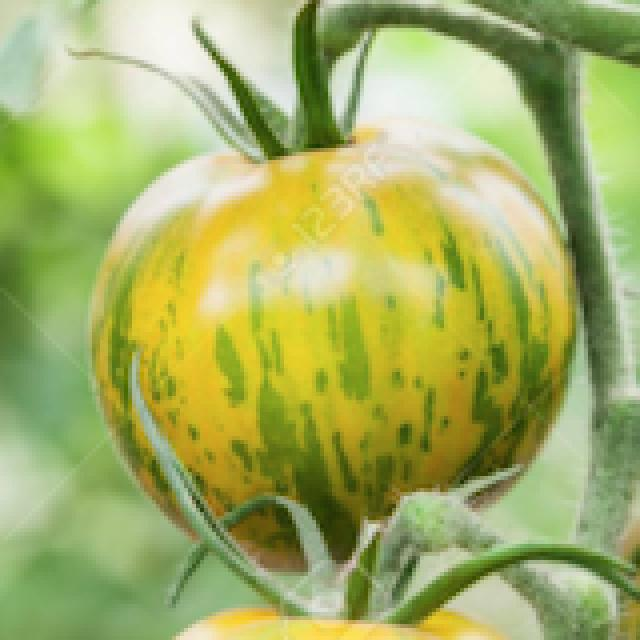unripe tomato: (55, 64, 569, 552)
